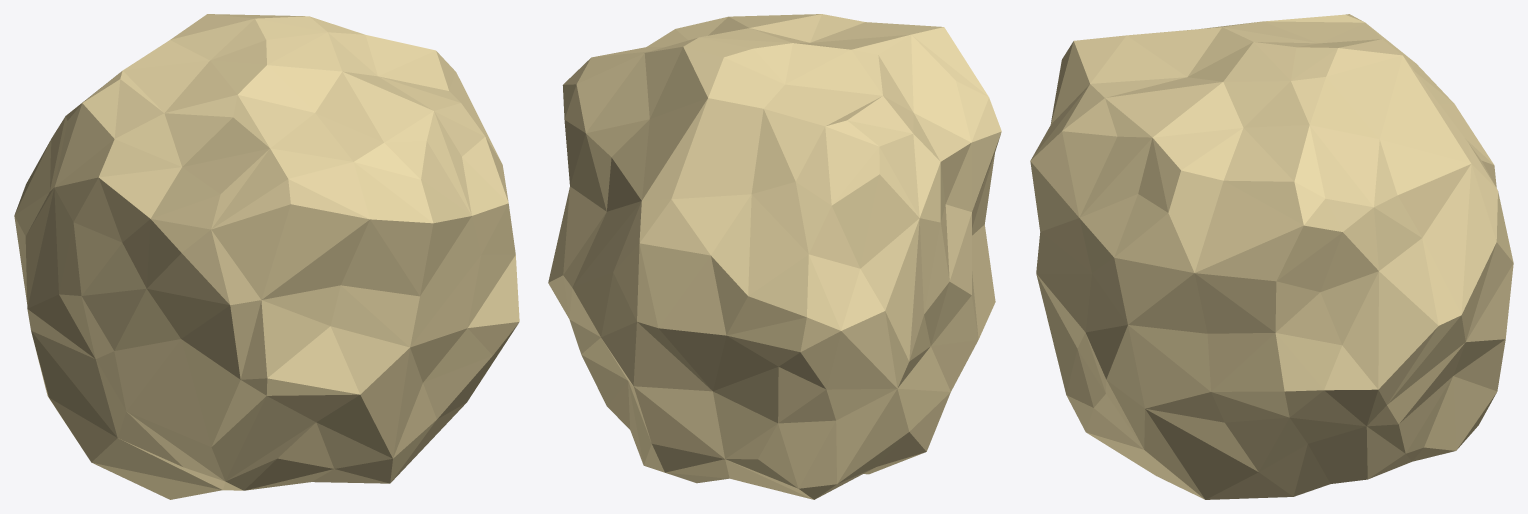
Rendered from Asteroid (114).fbx.
3 views of the same model, side by side, from view 1: azimuth 30°, elevation 25°; view 2: azimuth 150°, elevation 25°; view 3: azimuth 270°, elevation 25° (orthographic). The views are drawn at different scales.
Visible parts, largest first — view 1: Asteroid123; view 2: Asteroid123; view 3: Asteroid123.
Boxes of the visible parts, x1=… form: Asteroid123: x1=14, y1=14, x2=519, y2=499; Asteroid123: x1=548, y1=14, x2=1001, y2=499; Asteroid123: x1=1030, y1=14, x2=1513, y2=499.
Size of the model in its own units: 241 by 246 by 249.
